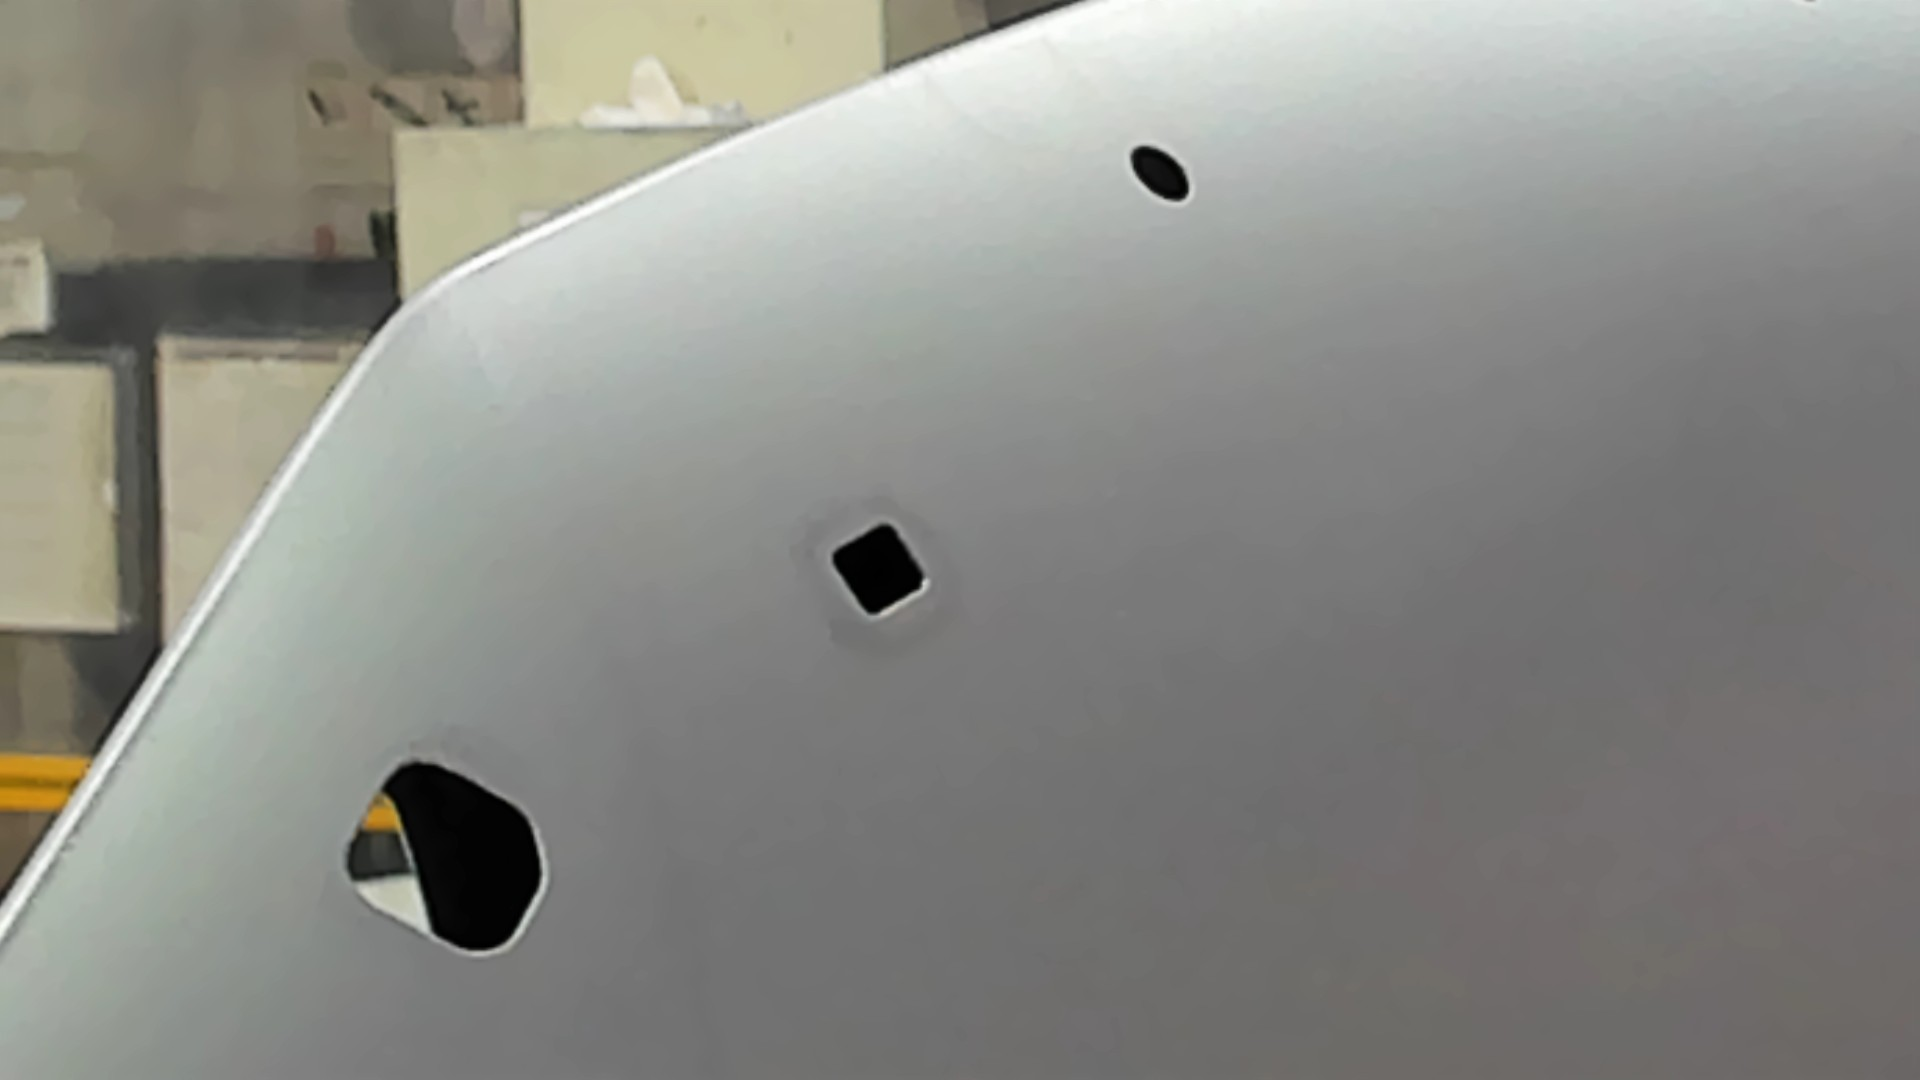chico: (1125, 138, 1197, 210)
grande: (338, 754, 553, 963)
mediano: (823, 516, 936, 628)
